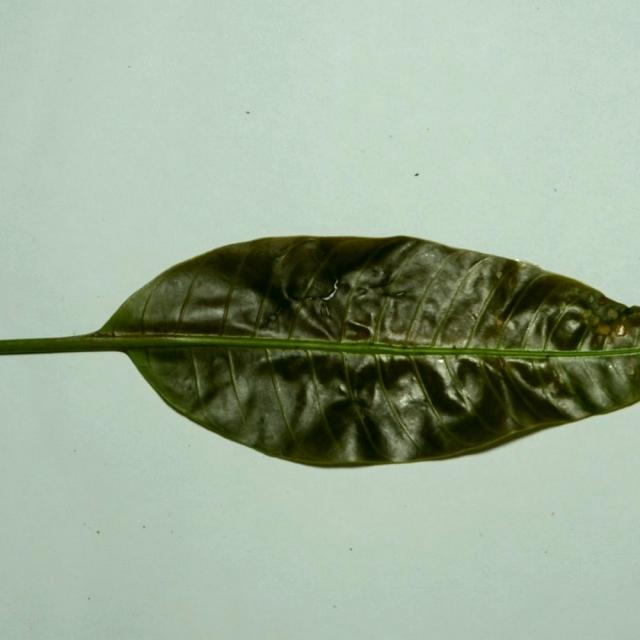Anthracnose: (369, 367, 423, 417), (440, 365, 476, 413), (549, 368, 564, 387), (337, 383, 348, 396), (422, 250, 436, 260), (513, 257, 528, 266), (608, 363, 614, 370), (437, 358, 444, 363)
Mango: (0, 236, 639, 472)
